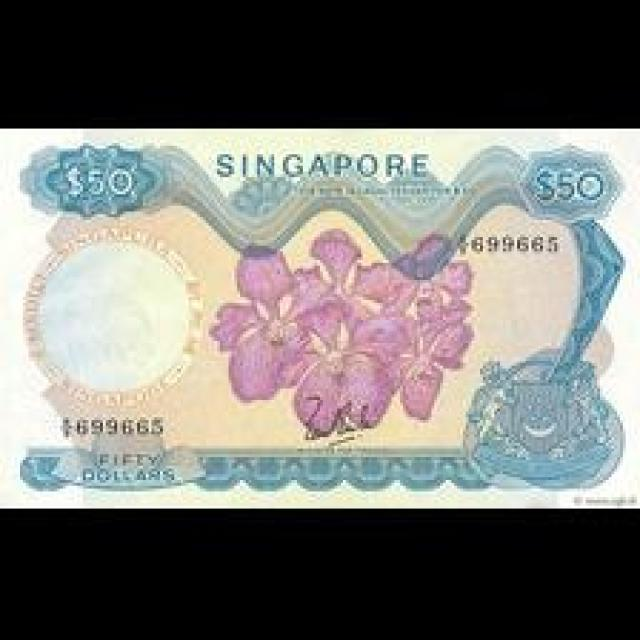banknote: (0, 126, 637, 506), (75, 441, 181, 493), (526, 160, 618, 213), (63, 159, 144, 209)
